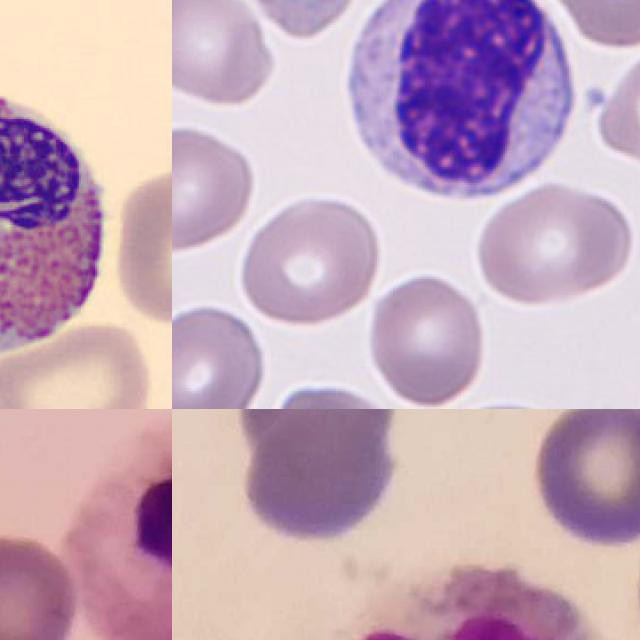Eosinophil: (0, 66, 130, 378), (317, 559, 610, 640)
Lymphocyte: (332, 0, 583, 213)
Neutrophil: (67, 412, 172, 640)
RBC: (472, 176, 639, 311), (237, 190, 384, 329), (361, 268, 491, 409), (0, 318, 157, 409), (172, 0, 277, 112), (172, 122, 258, 257), (106, 167, 172, 329), (172, 302, 270, 409), (592, 42, 640, 172), (234, 0, 375, 42), (539, 0, 640, 49), (259, 380, 403, 409), (423, 398, 583, 409)
